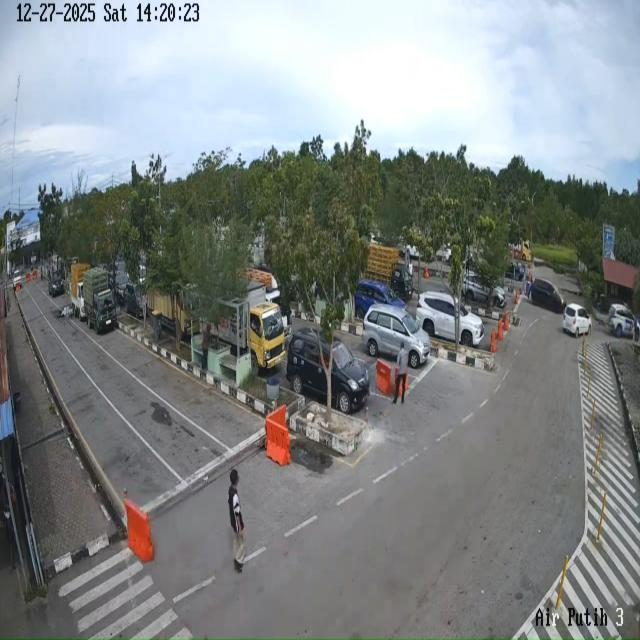Golongan IVA: (286, 327, 370, 414), (362, 304, 430, 369), (416, 292, 484, 347), (354, 279, 406, 320), (462, 272, 507, 309), (530, 278, 566, 314), (562, 303, 592, 338), (608, 303, 635, 338), (124, 282, 144, 318), (48, 272, 64, 297)
Golongan IVB: (82, 267, 116, 334), (69, 263, 91, 321)
Golongan VB: (211, 281, 286, 371)
